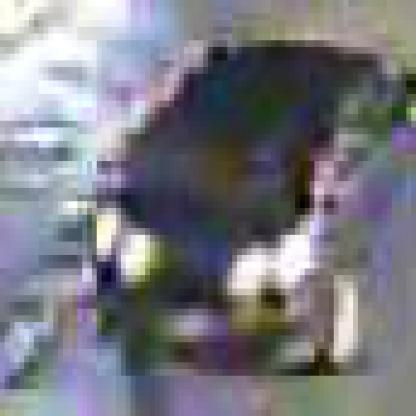car: (98, 42, 412, 384)
